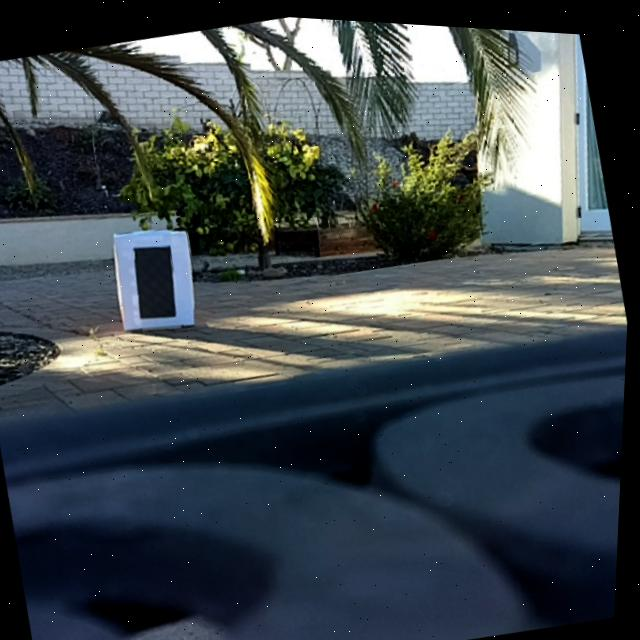led: (135, 236, 183, 318)
